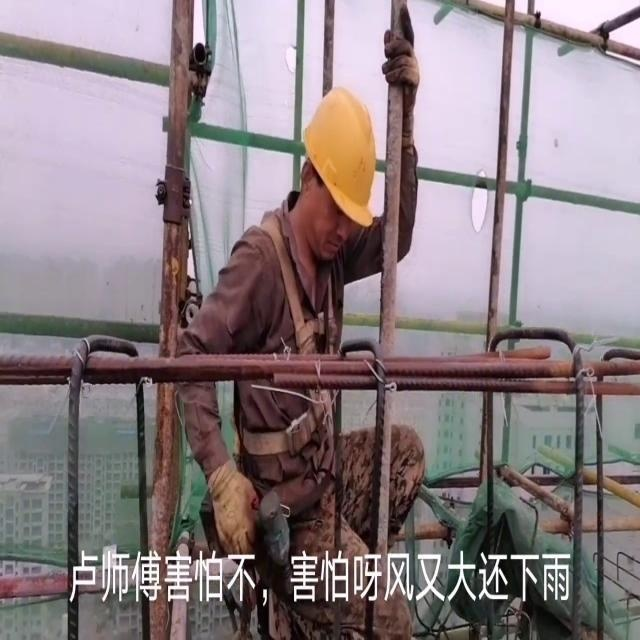Arnes_seguridad: (228, 201, 346, 467)
